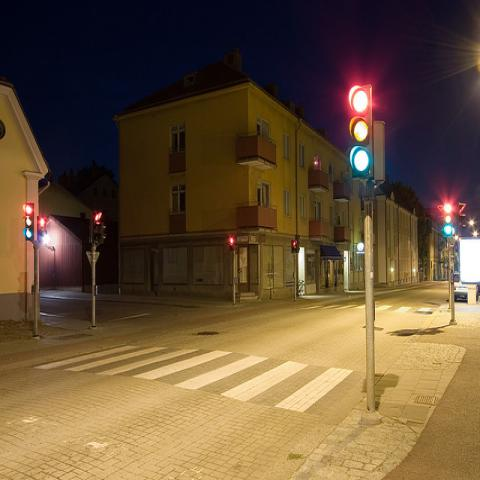car: (453, 272, 467, 300)
